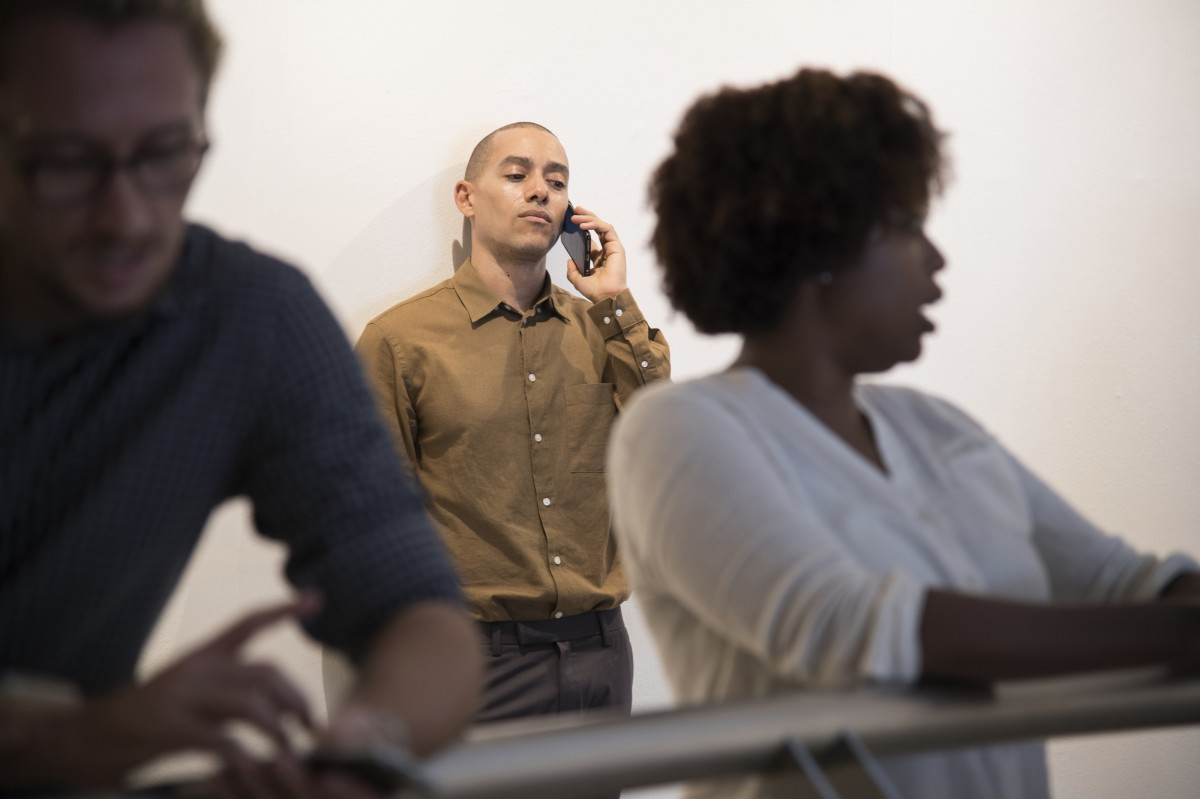phone: (545, 196, 624, 290)
talk: (483, 147, 639, 305)
